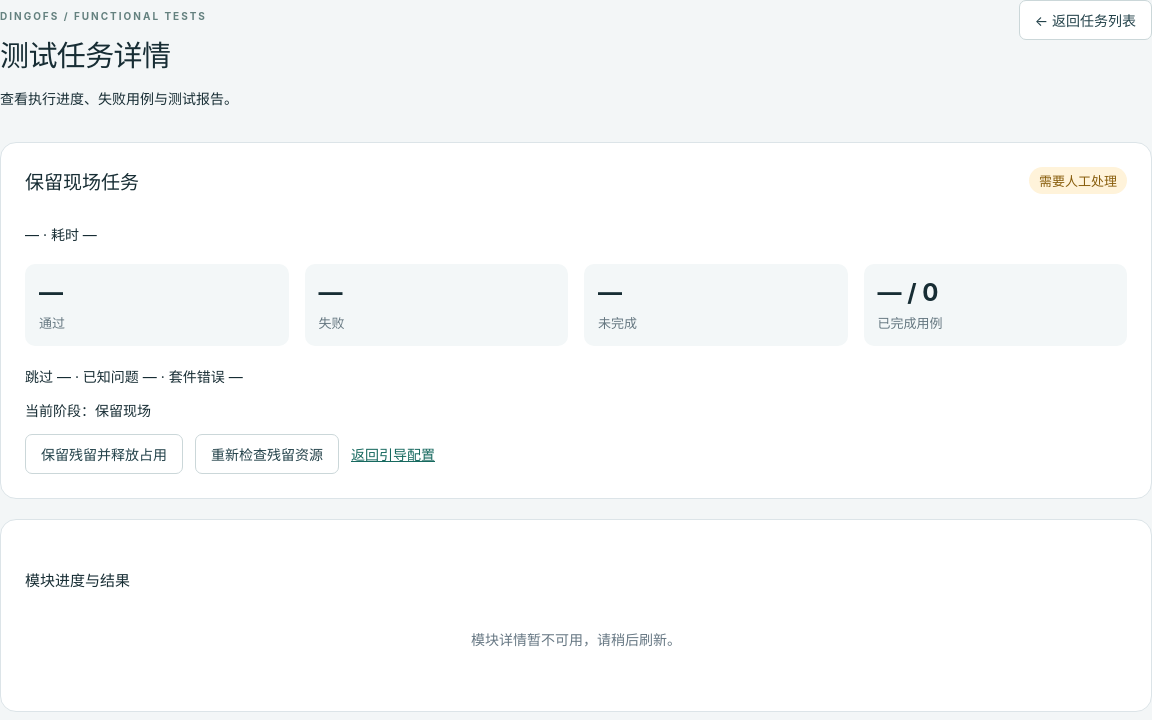
Test: release failure never displays successful release
Click the button "保留残留并释放占用".
click(104, 454)  # box [25,434,183,474]
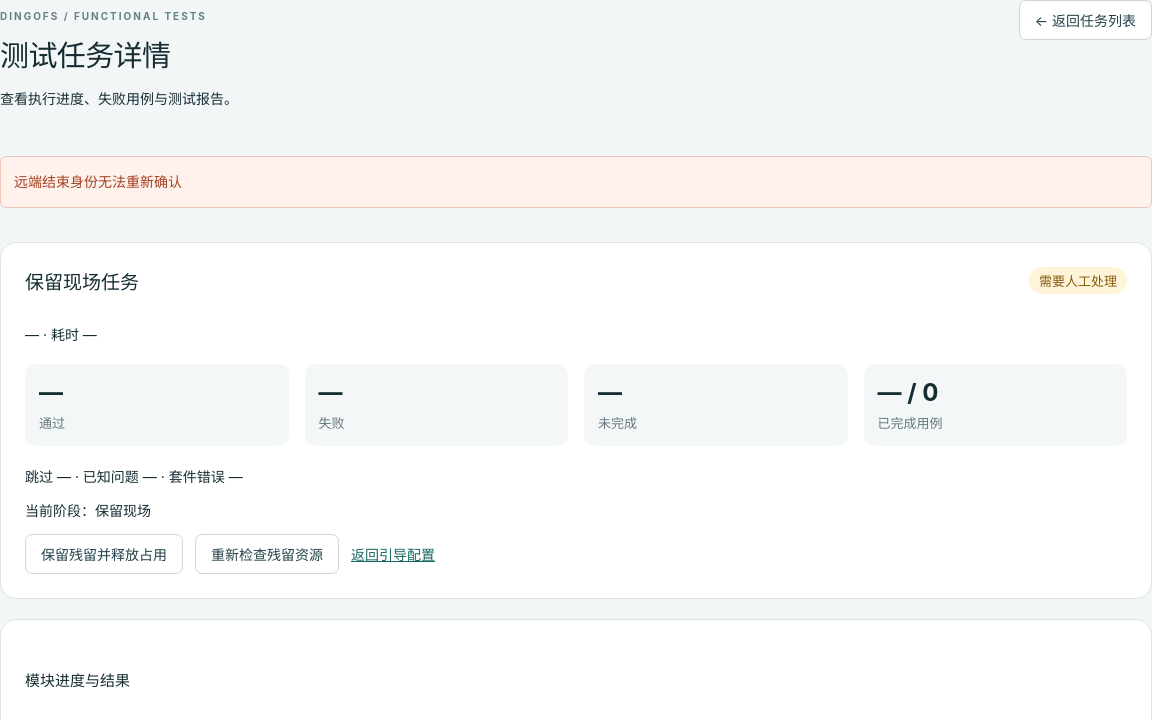
Result: the message reads "远端结束身份无法重新确认" at [14,173,182,190]
